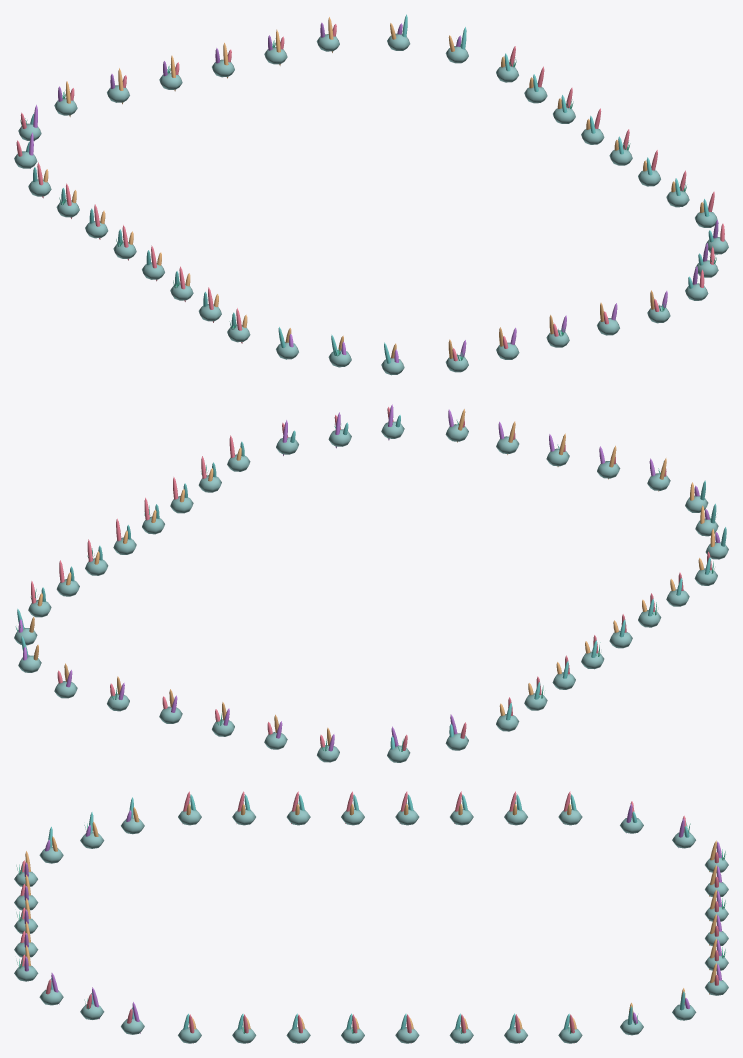
The model's file is reef-13-DgKQ2aR6.glb.
3 views of the same model, one above another, from view 1: azimuth 30°, elevation 25°; view 2: azimuth 150°, elevation 25°; view 3: azimuth 270°, elevation 25° (orthographic). The views are drawn at different scales.
Visible parts, largest first — view 1: ReefRock, Coral0, Coral2, Coral3, Coral1; view 2: ReefRock, Coral2, Coral0, Coral3, Coral1; view 3: ReefRock, Coral0, Coral2, Coral3, Coral1.
Boxes of the visible parts, left/top/right/bottom form: ReefRock: left=14, top=33, right=728, bottom=374; Coral0: left=16, top=24, right=724, bottom=361; Coral2: left=43, top=17, right=704, bottom=358; Coral3: left=26, top=14, right=713, bottom=375; Coral1: left=29, top=22, right=718, bottom=362; ReefRock: left=14, top=421, right=728, bottom=762; Coral2: left=29, top=409, right=714, bottom=745; Coral0: left=31, top=407, right=711, bottom=750; Coral3: left=17, top=415, right=726, bottom=749; Coral1: left=18, top=404, right=720, bottom=751; ReefRock: left=14, top=809, right=728, bottom=1043; Coral0: left=20, top=791, right=718, bottom=1043; Coral2: left=25, top=803, right=716, bottom=1029; Coral3: left=48, top=794, right=689, bottom=1029; Coral1: left=24, top=803, right=721, bottom=1033.
Size of the model in its own units: 31 by 2.06 by 41.1.
